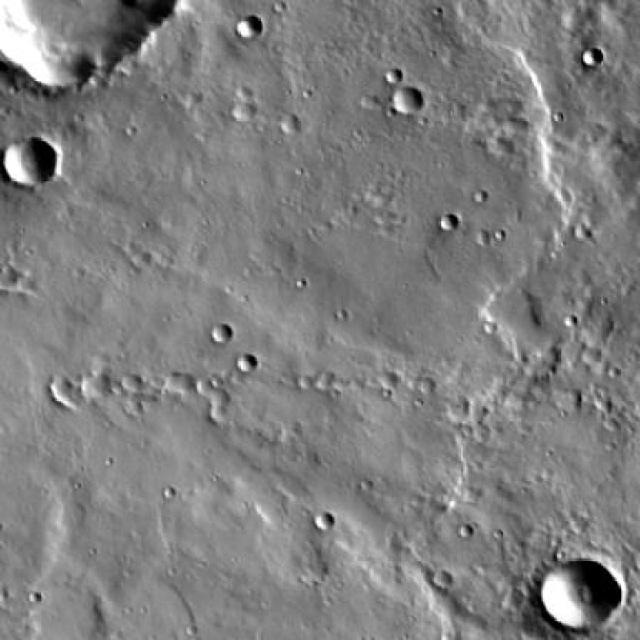crater: (0, 1, 174, 98), (538, 560, 619, 634), (3, 139, 57, 186), (390, 87, 424, 116), (63, 376, 94, 404), (34, 385, 64, 412), (239, 16, 263, 38), (165, 372, 189, 394), (230, 101, 253, 121), (210, 324, 232, 344), (276, 116, 298, 136), (237, 353, 257, 372), (440, 216, 460, 235), (418, 378, 437, 396), (316, 514, 336, 531), (22, 264, 40, 282), (584, 51, 602, 68), (435, 573, 453, 590), (382, 373, 400, 390), (384, 66, 402, 82), (316, 374, 333, 389), (563, 316, 579, 330), (299, 377, 315, 389), (162, 488, 176, 501)
